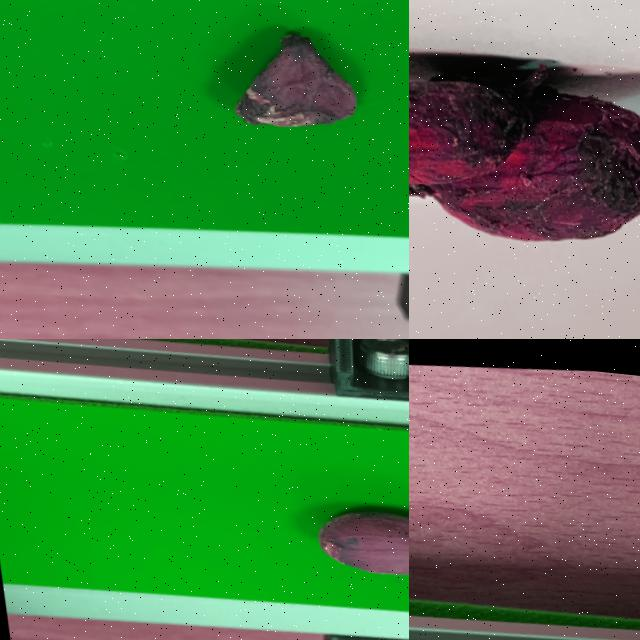Agglomerated_cocoabeans: (409, 0, 639, 325)
Fine_cocoabeans: (263, 450, 408, 619)
Flat_cocoabeans: (108, 0, 408, 194)
